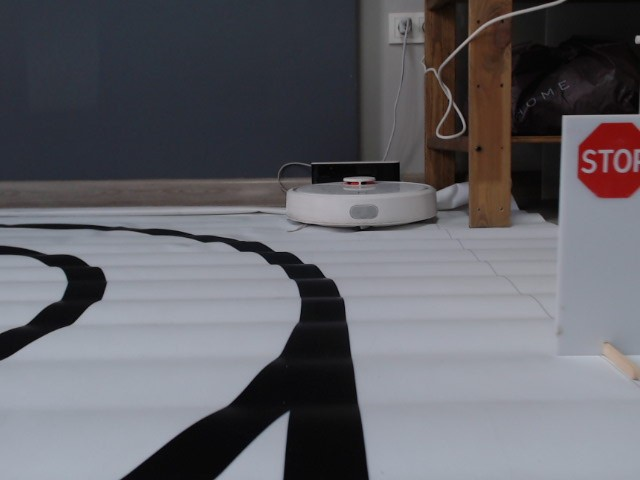Stop: (576, 121, 640, 200)
